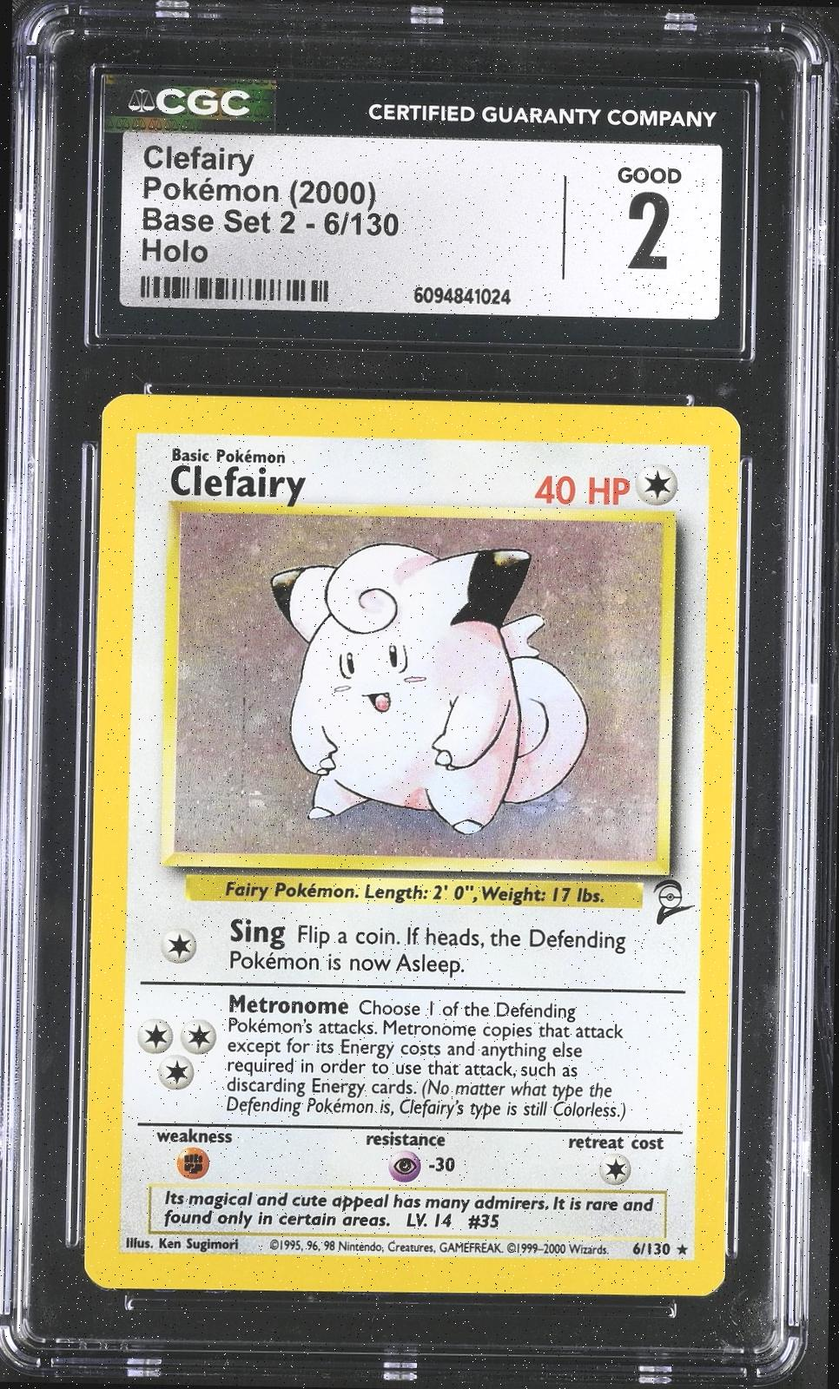card-2UtV: (84, 394, 741, 1297)
